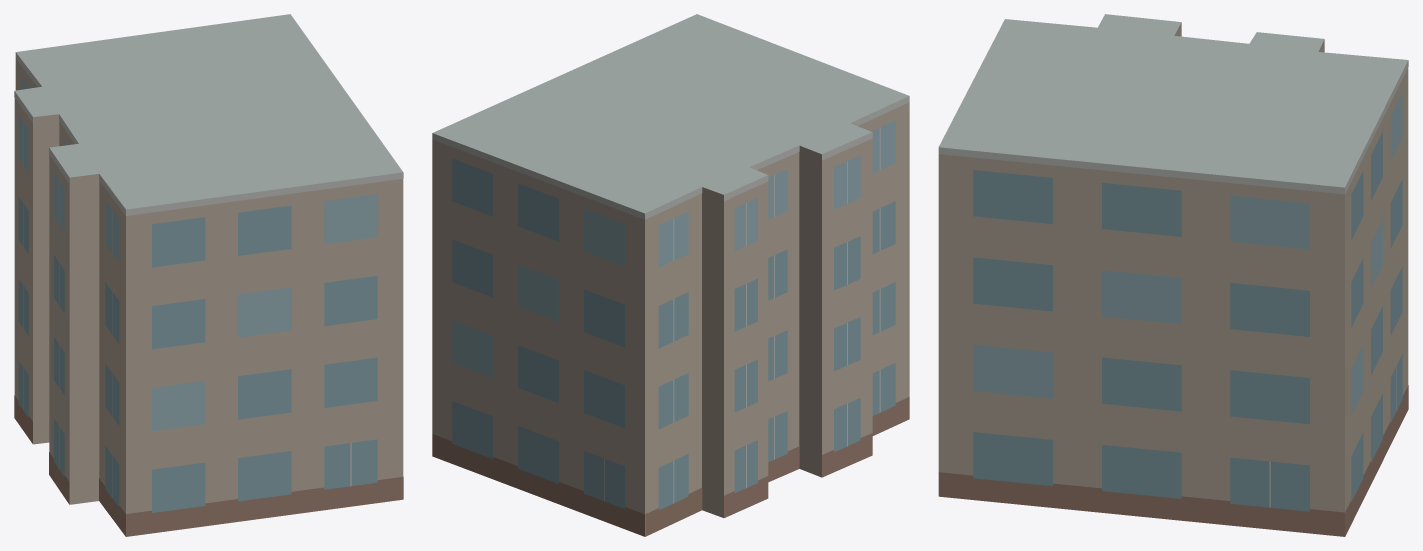
File: survey-upis-33006404.glb
3 renders of one model, left to right at view 1: azimuth 30°, elevation 25°; view 2: azimuth 150°, elevation 25°; view 3: azimuth 270°, elevation 25°, orthographic. The views are drawn at different scales.
Visible parts, largest first — view 1: survey-upis-33006404.tmp; view 2: survey-upis-33006404.tmp; view 3: survey-upis-33006404.tmp.
Part boxes in pixels (x1=…): survey-upis-33006404.tmp: x1=14, y1=14, x2=403, y2=536; survey-upis-33006404.tmp: x1=432, y1=14, x2=909, y2=536; survey-upis-33006404.tmp: x1=938, y1=14, x2=1408, y2=536.
Bounding box in the file's own units: 13.33 × 12.5 × 15.25.
